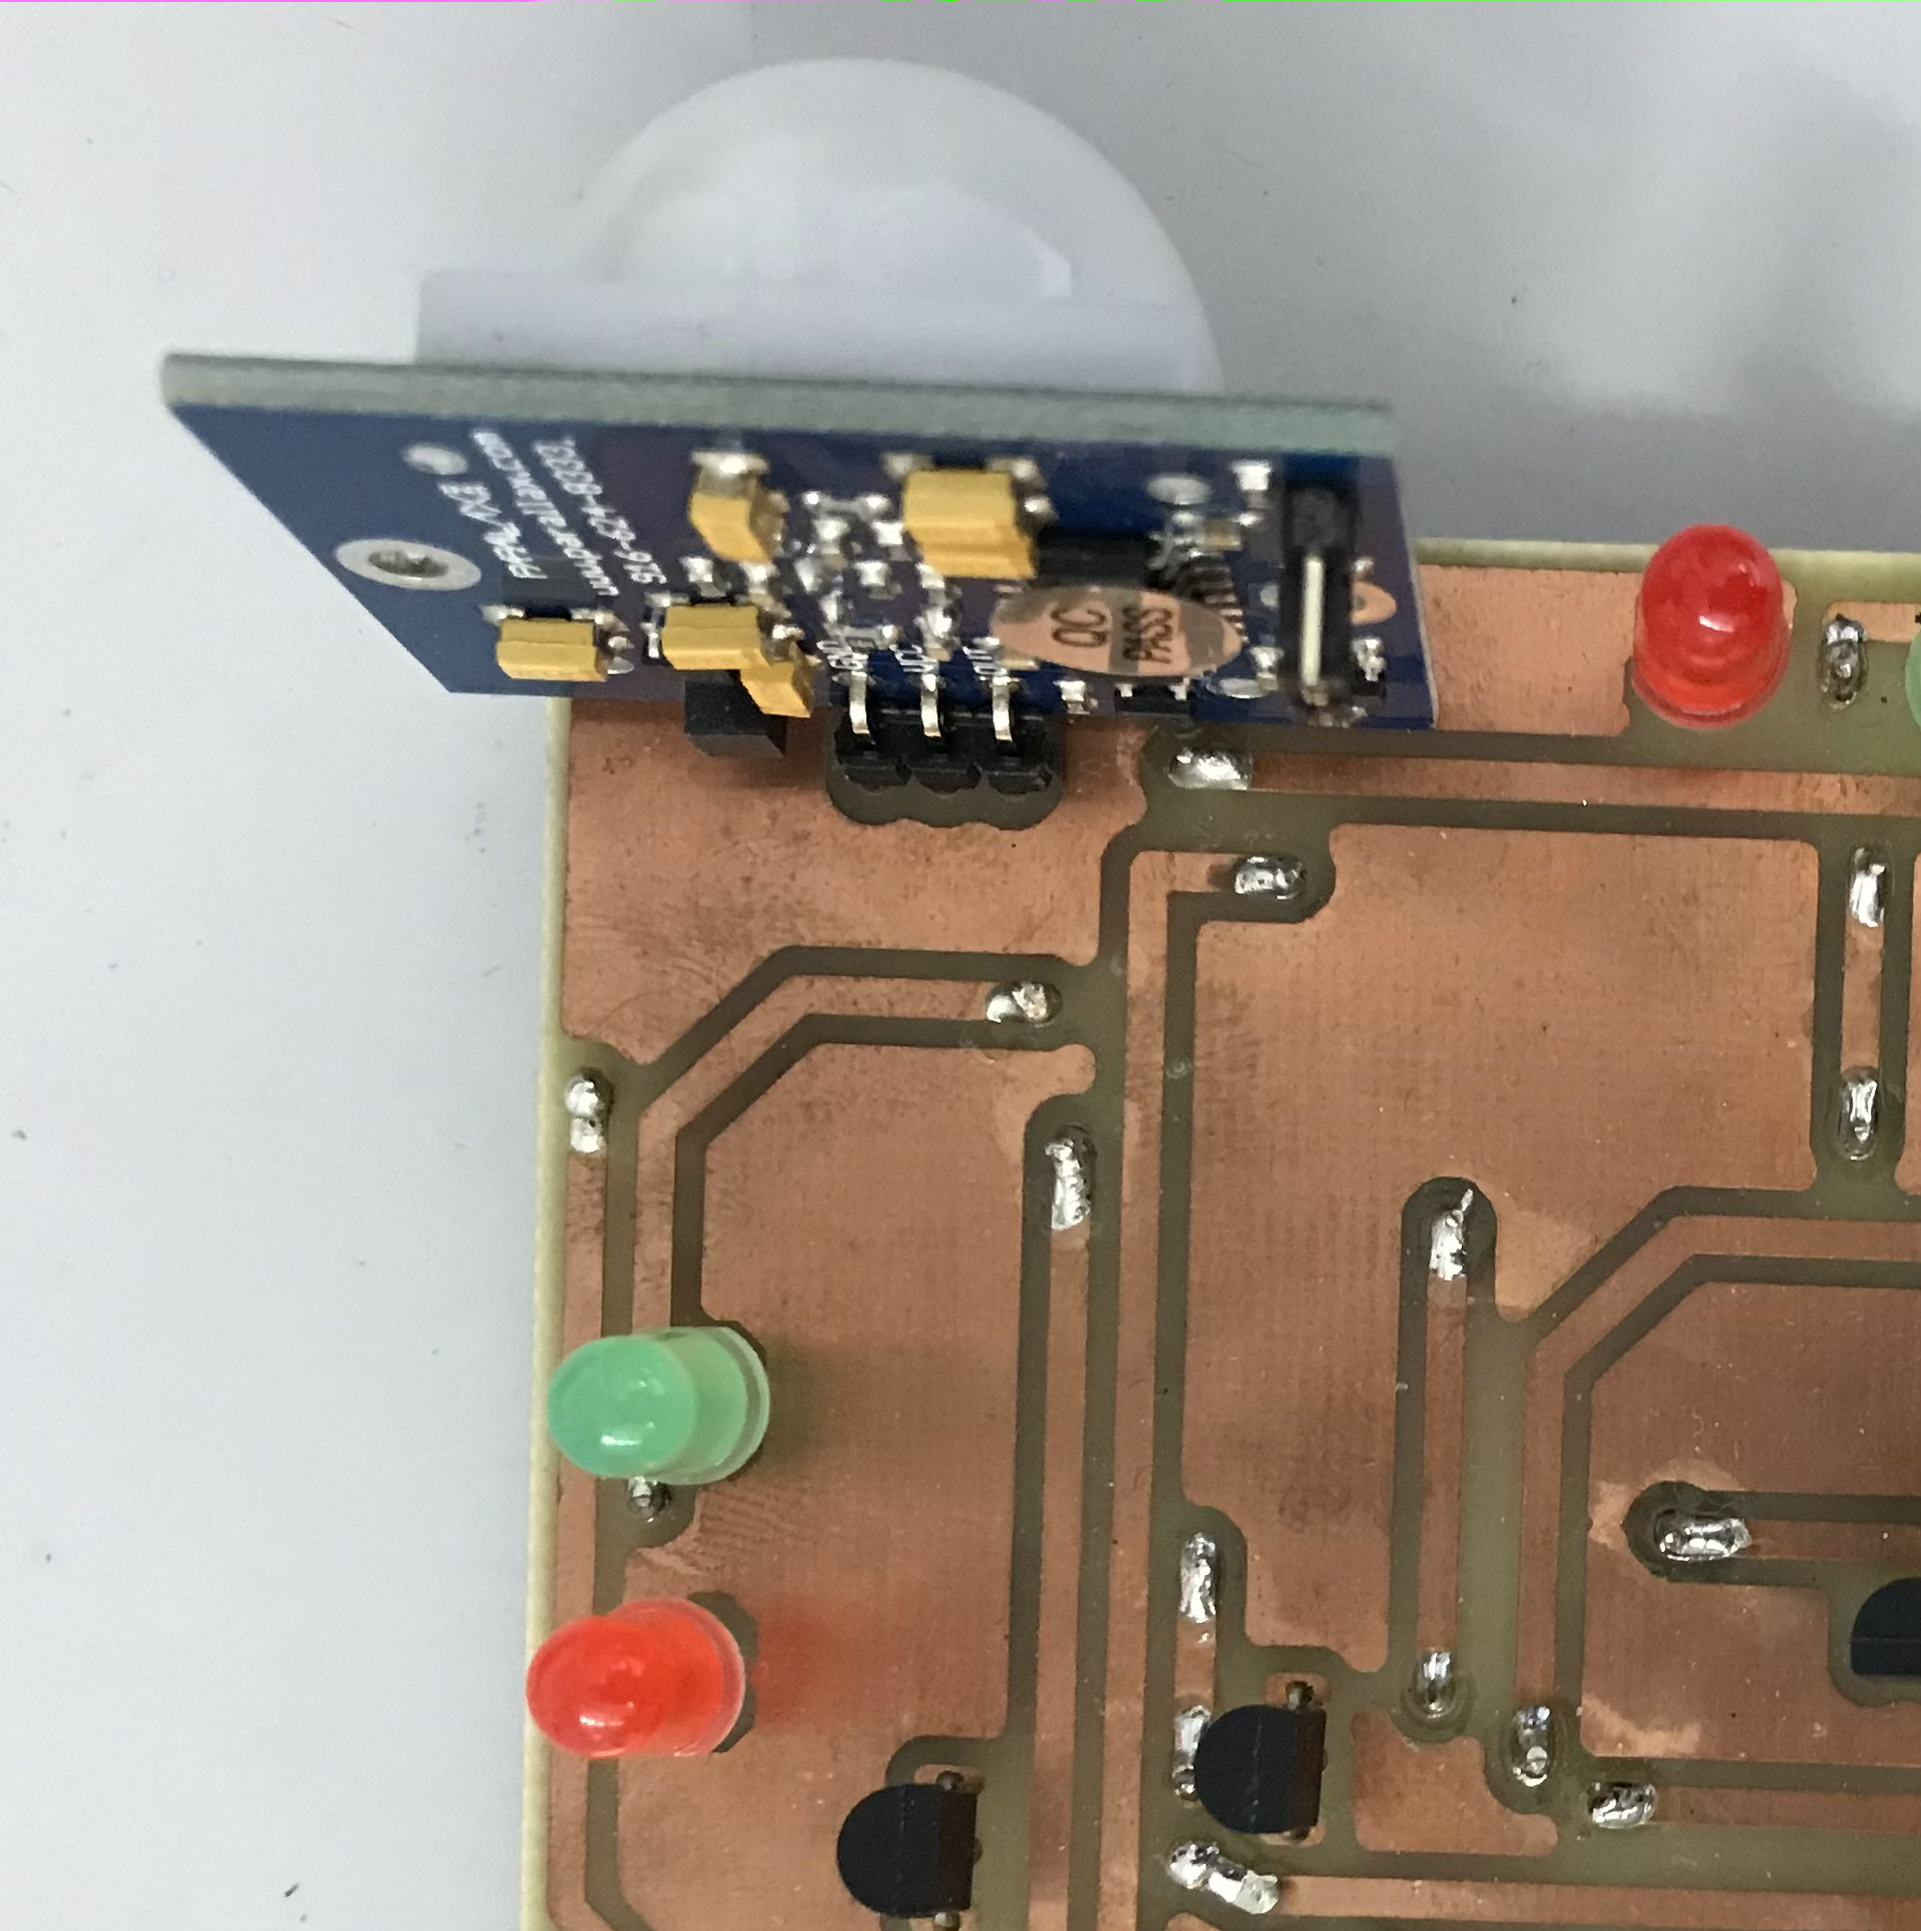LED: (542, 1319, 779, 1498), (1624, 515, 1793, 732), (530, 1599, 748, 1766)
